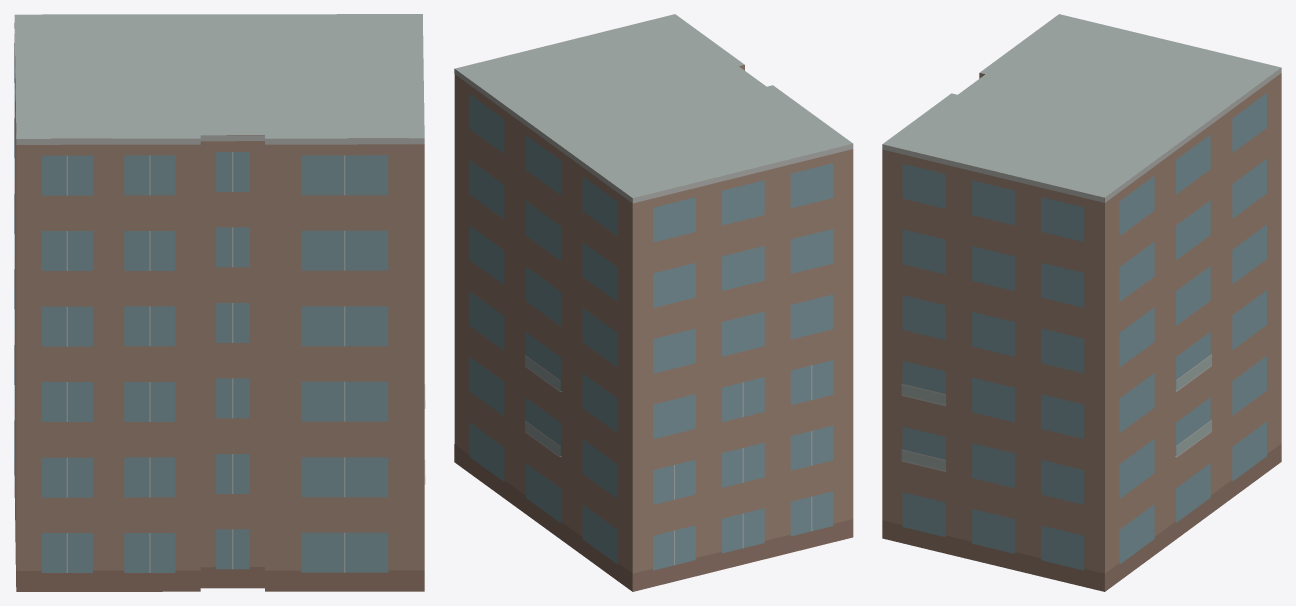
File: survey-upis-33035598.glb
The picture shows the model from 3 angles, left to right: view 1: azimuth 30°, elevation 25°; view 2: azimuth 150°, elevation 25°; view 3: azimuth 270°, elevation 25°; orthographic projection. The views are drawn at different scales.
Visible parts, largest first — view 1: survey-upis-33035598.tmp; view 2: survey-upis-33035598.tmp; view 3: survey-upis-33035598.tmp.
Boxes of the visible parts, <box> form: survey-upis-33035598.tmp: <box>14,14,425,591</box>; survey-upis-33035598.tmp: <box>454,14,853,591</box>; survey-upis-33035598.tmp: <box>882,14,1281,591</box>.
Bounding box in the file's own units: 18.3 × 18.3 × 16.81.
